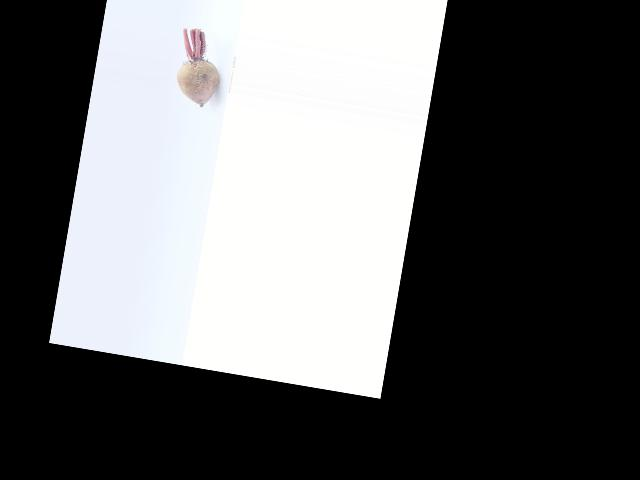beet: (172, 27, 226, 108)
